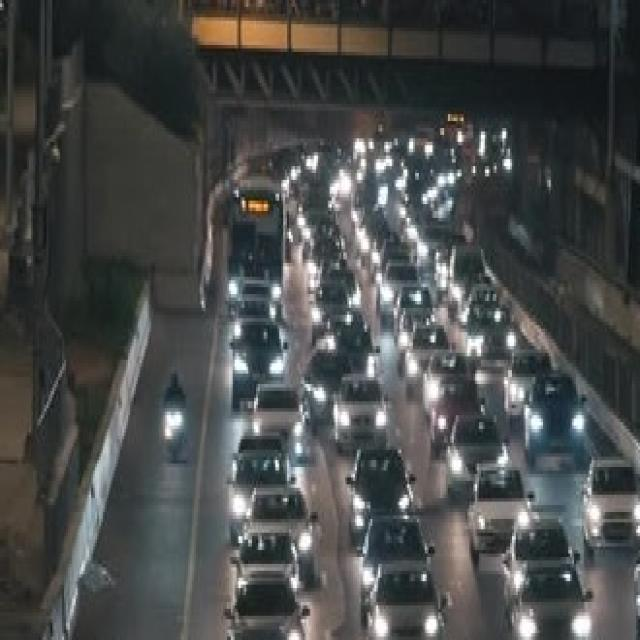bus: (226, 174, 288, 325)
car: (504, 508, 574, 621), (356, 510, 434, 610), (242, 486, 318, 584), (524, 369, 588, 472), (344, 446, 416, 536), (367, 560, 444, 640), (468, 462, 532, 558), (512, 564, 592, 640), (223, 571, 308, 640), (578, 457, 640, 550), (227, 447, 289, 538), (446, 409, 510, 495), (228, 317, 287, 408), (246, 379, 306, 462), (332, 372, 390, 452), (502, 347, 558, 423), (302, 349, 354, 427), (404, 322, 451, 396), (423, 351, 475, 414), (466, 307, 516, 367), (632, 512, 640, 637), (205, 633, 302, 640)
